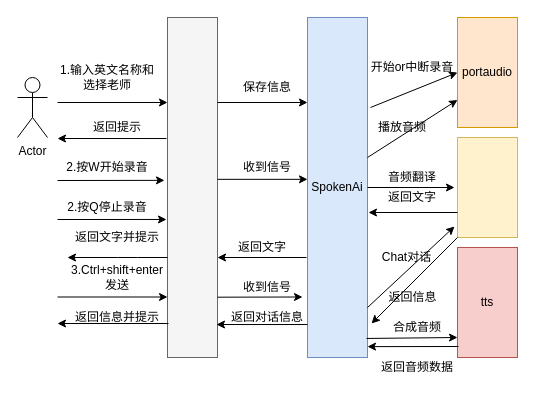
This 535x395 diagram has some shape labels left out. The shapes that lost their labels are listed below. From the top down, each one's centre as x and y in pixels, then its label:
At [192,187]: "Console".
At [487,187]: "openai-api".
